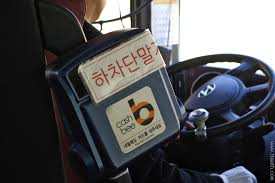terminal: (41, 27, 188, 177)
